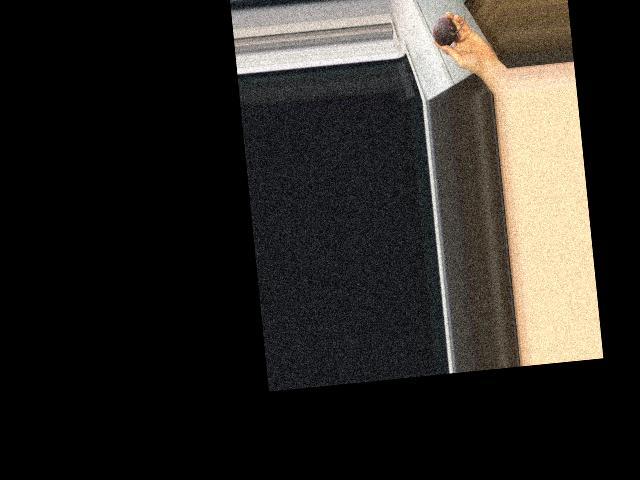beet: (431, 11, 468, 46)
